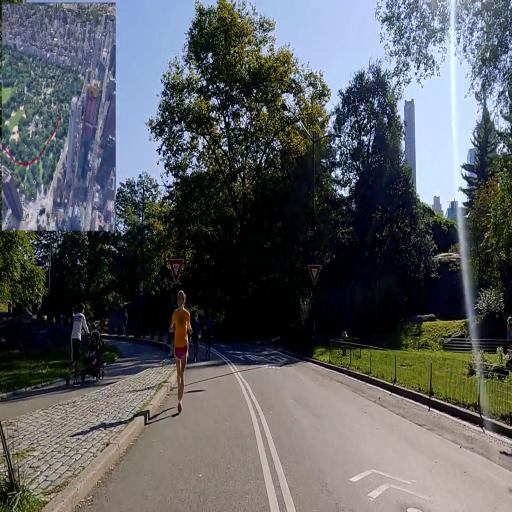Street_Light: (278, 100, 345, 348)
